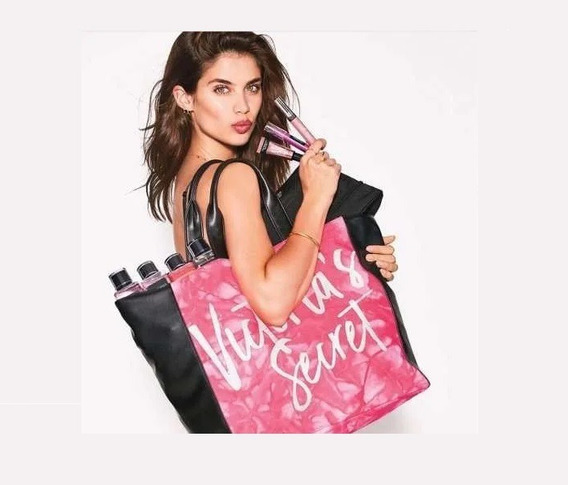cartera: (103, 158, 433, 433)
